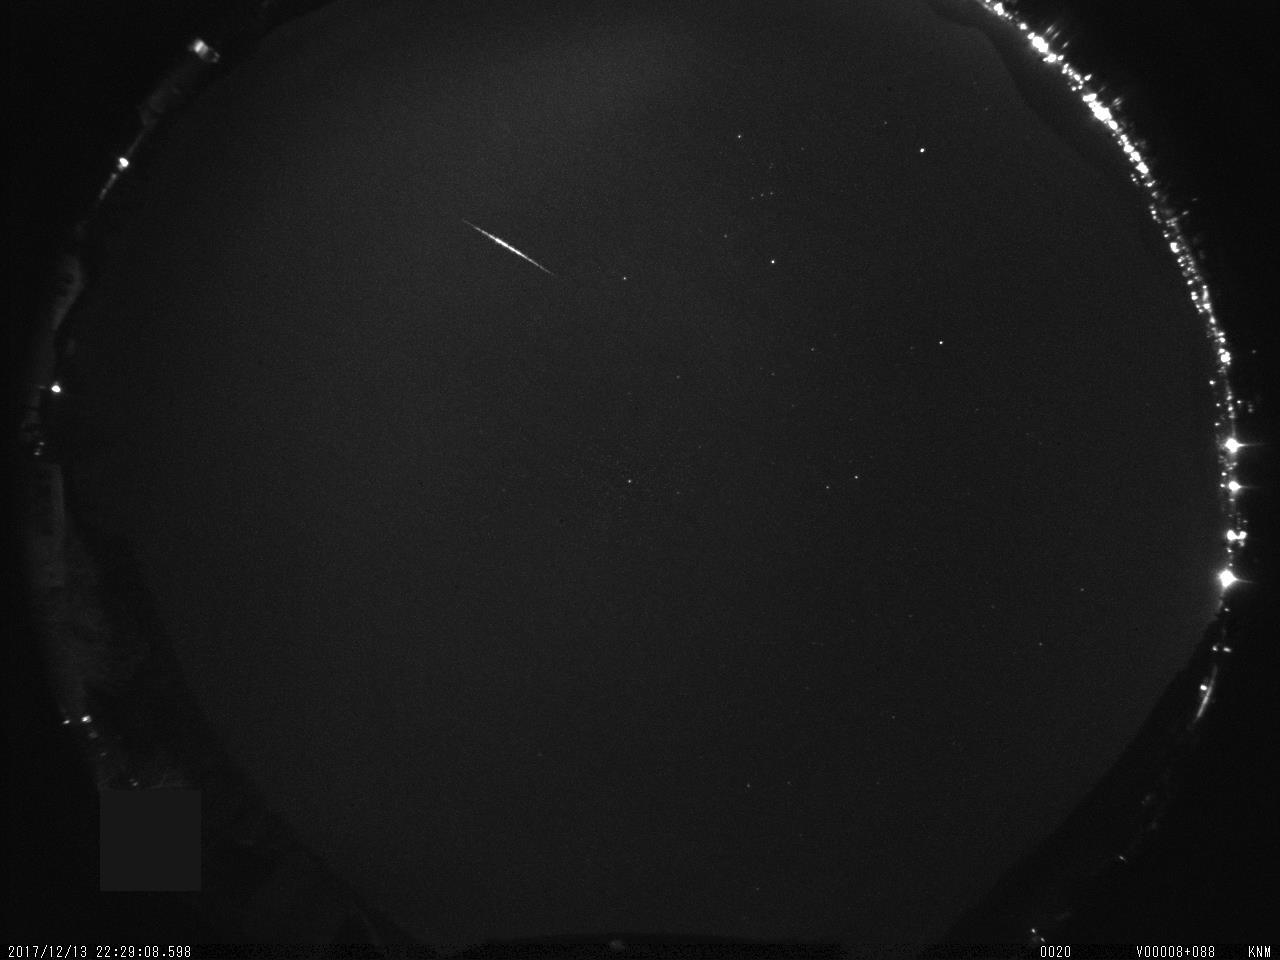meteor: (447, 205, 587, 294)
